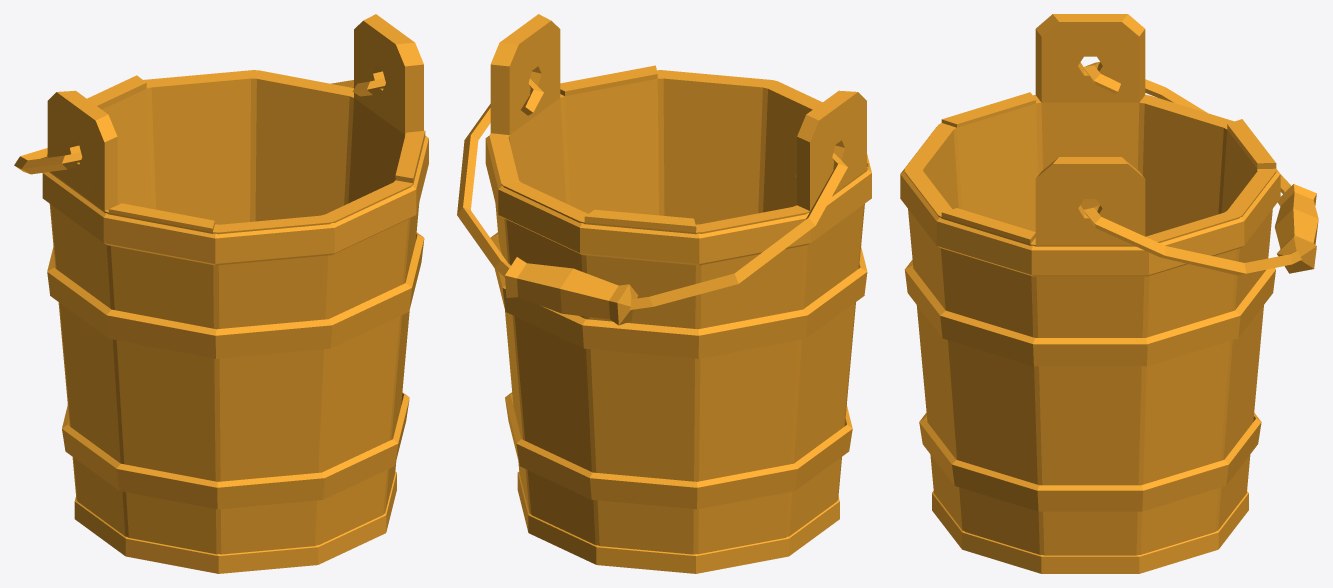
File: SM_Bucket_Wooden_A.fbx
3 views of the same model, side by side, from view 1: azimuth 30°, elevation 25°; view 2: azimuth 150°, elevation 25°; view 3: azimuth 270°, elevation 25° (orthographic). The views are drawn at different scales.
Parts seen in each view (by area): view 1: bucket-wooden-a-base, bucket-wooden-a-handle; view 2: bucket-wooden-a-base, bucket-wooden-a-handle; view 3: bucket-wooden-a-base, bucket-wooden-a-handle.
Boxes of the visible parts, x1,y1,x2,y2 form: bucket-wooden-a-base: [42, 14, 428, 573]; bucket-wooden-a-handle: [14, 78, 385, 174]; bucket-wooden-a-base: [485, 14, 871, 573]; bucket-wooden-a-handle: [457, 79, 847, 325]; bucket-wooden-a-base: [900, 14, 1280, 573]; bucket-wooden-a-handle: [1083, 62, 1318, 275].
Bounding box in the file's own units: 0.2507 × 0.2983 × 0.2686.
